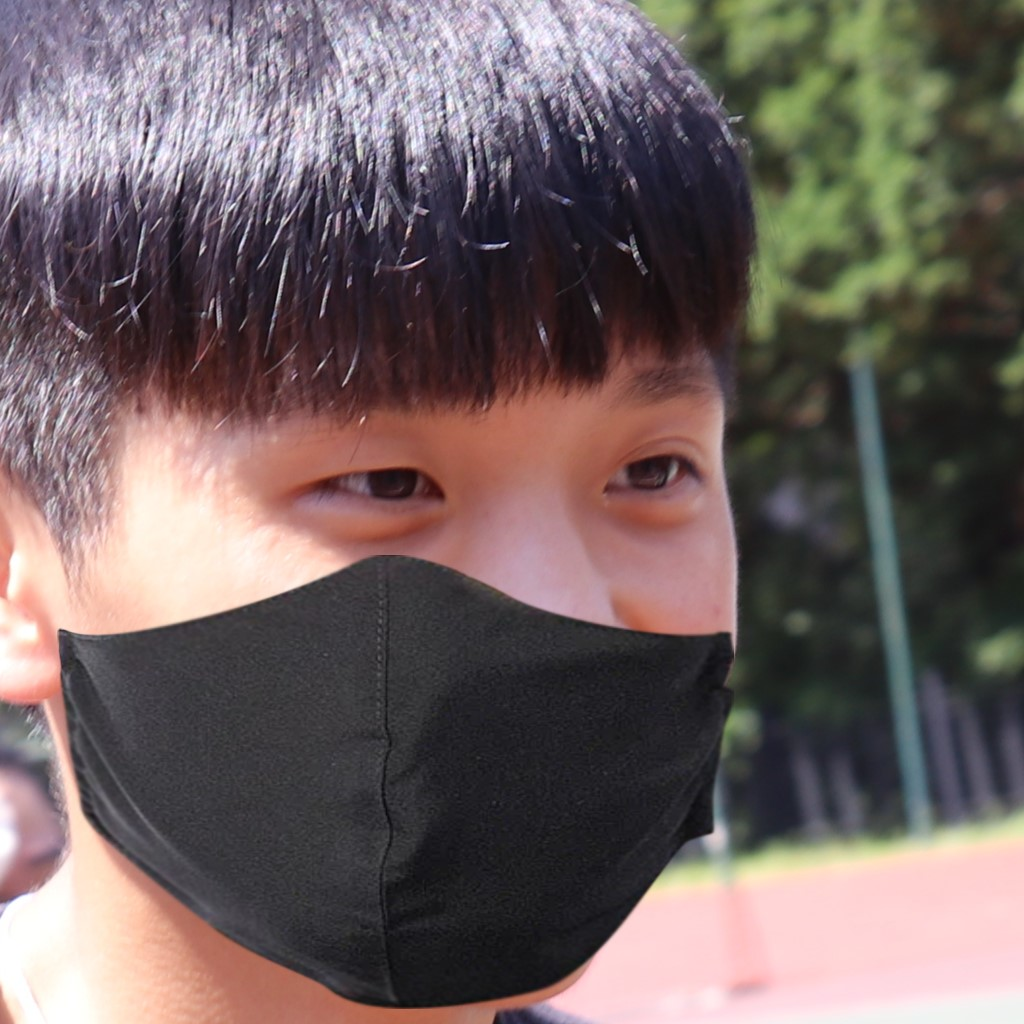con_mascara: (16, 155, 744, 995)
